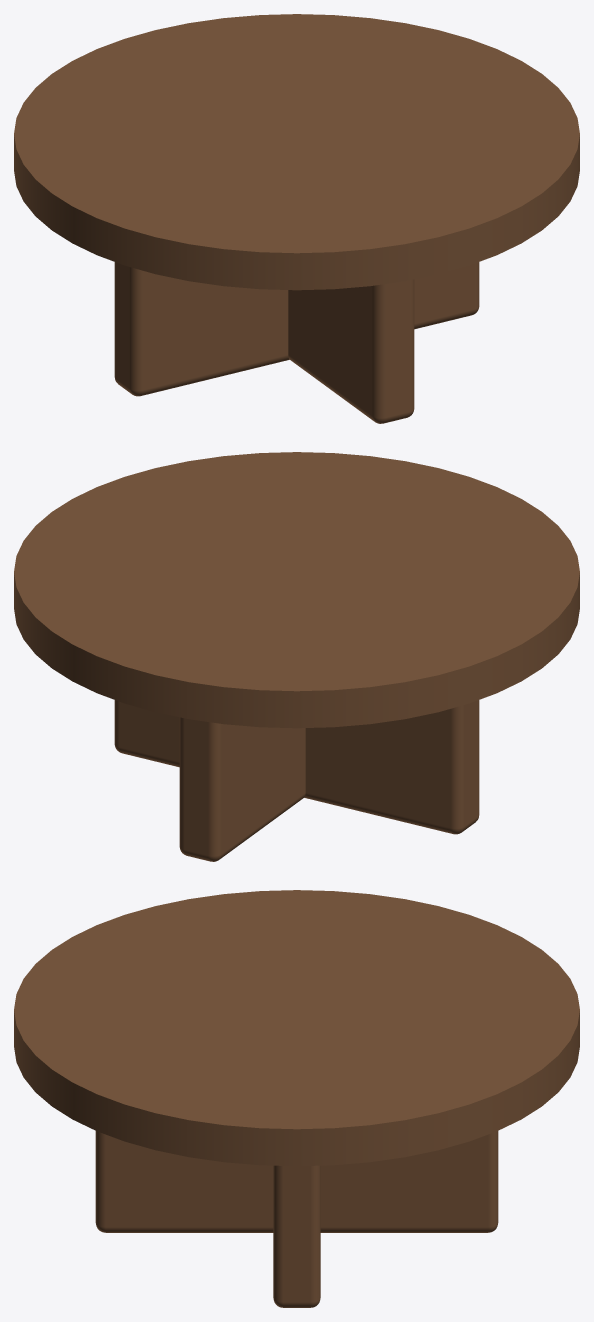
The model's file is orbit-table-walnut.glb.
3 renders of one model, top to bottom at view 1: azimuth 30°, elevation 25°; view 2: azimuth 150°, elevation 25°; view 3: azimuth 270°, elevation 25°, orthographic.
Parts seen in each view (by area): view 1: The Orbit Table — Walnut; view 2: The Orbit Table — Walnut; view 3: The Orbit Table — Walnut.
Boxes of the visible parts, <box> form: The Orbit Table — Walnut: <box>14,14,579,423</box>; The Orbit Table — Walnut: <box>14,452,579,861</box>; The Orbit Table — Walnut: <box>14,890,579,1307</box>.
Size of the model in its own units: 0.9 by 0.38 by 0.9.
